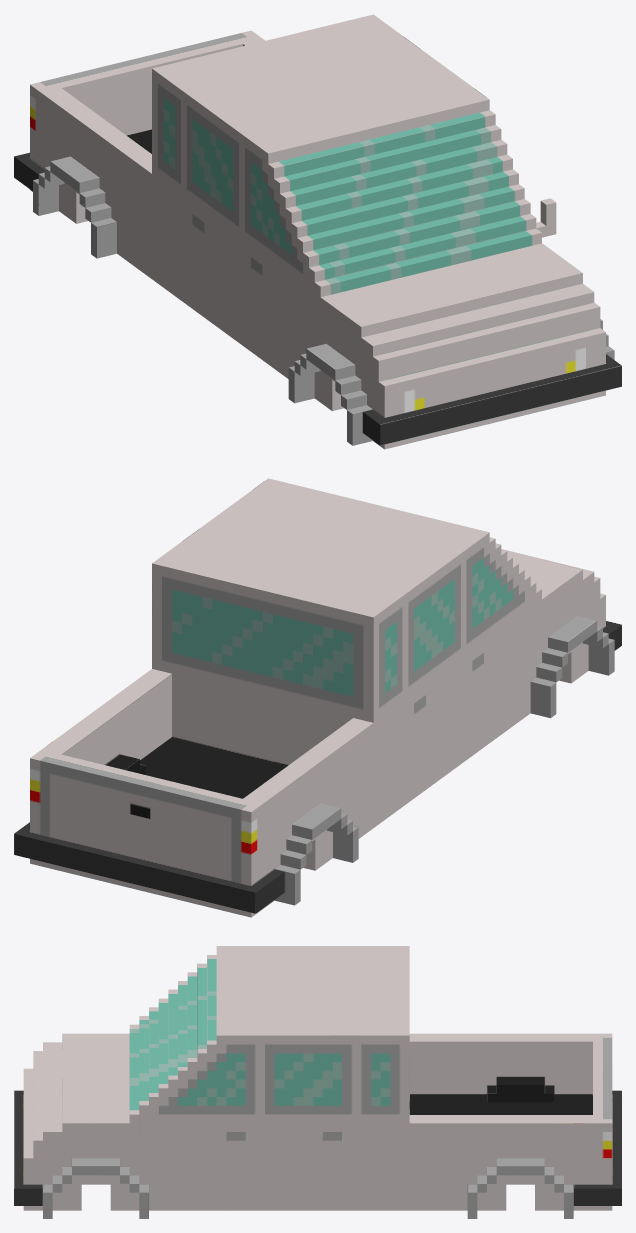
File: Truck_2.obj
The picture shows the model from 3 angles, top to bottom: view 1: azimuth 30°, elevation 25°; view 2: azimuth 150°, elevation 25°; view 3: azimuth 270°, elevation 25°; orthographic projection. The views are drawn at different scales.
Visible parts, largest first — view 1: Truck_2_Truck_2.001; view 2: Truck_2_Truck_2.001; view 3: Truck_2_Truck_2.001.
Boxes of the visible parts, x1,y1,x2,y2 form: Truck_2_Truck_2.001: [14, 14, 621, 449]; Truck_2_Truck_2.001: [14, 478, 621, 917]; Truck_2_Truck_2.001: [14, 946, 621, 1218].
Bounding box in the file's own units: 2.6 × 2 × 6.3.
